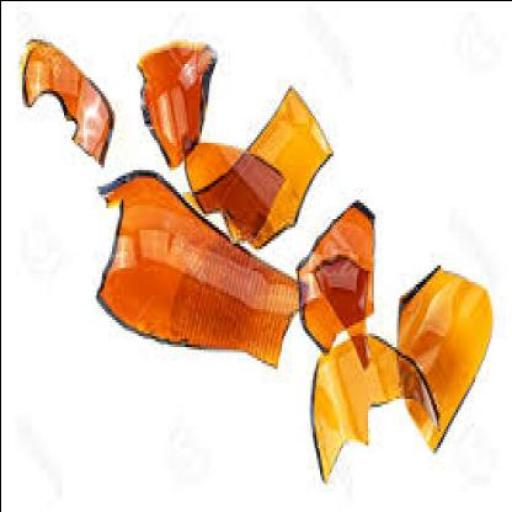glass: (92, 171, 302, 371), (183, 87, 327, 250), (306, 335, 437, 487), (395, 269, 491, 458), (293, 202, 374, 357), (17, 38, 111, 169), (176, 141, 282, 245), (134, 41, 216, 172), (310, 259, 368, 370)
